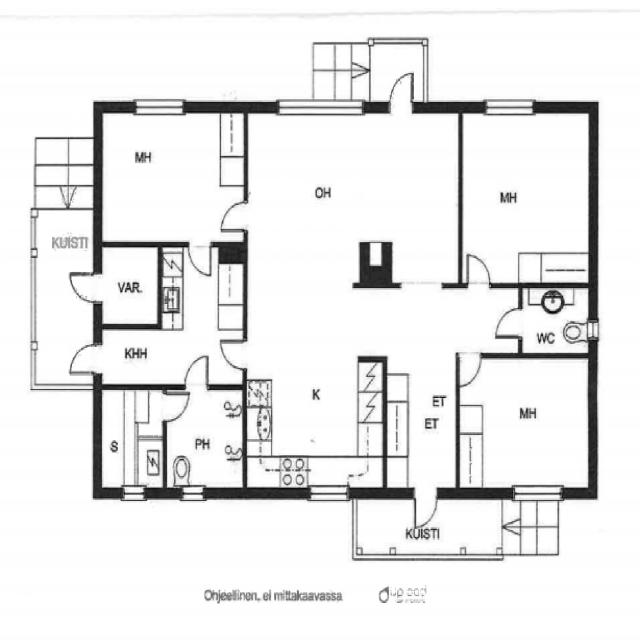door: (389, 72, 413, 113), (70, 274, 102, 303), (70, 344, 102, 373), (415, 488, 437, 528), (188, 242, 212, 277), (220, 202, 247, 232), (220, 340, 248, 368), (496, 308, 522, 338), (185, 356, 207, 390), (162, 393, 188, 421), (468, 256, 489, 288), (461, 352, 481, 383)
